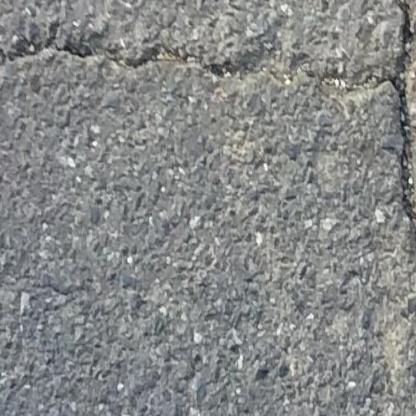Cracks: (0, 0, 416, 272)
